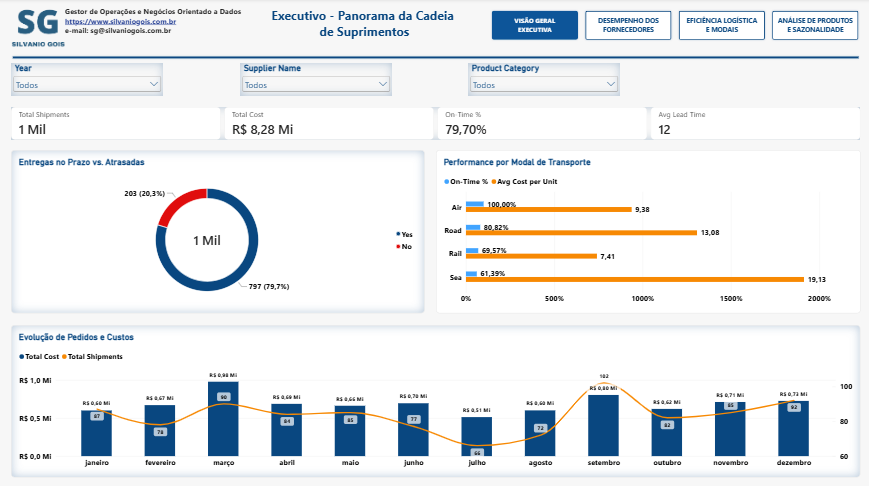

The page's visual inventory and layout, read from the dashboard file:
{"tool":"powerbi","page":{"name":"VISÃO GERAL EXECUTIVA","canvas":[1920,1080],"ordinal":0},"visuals":[{"type":"image","box":[24,0,120,120],"z":0},{"type":"textbox","box":[144,0,408,120],"z":1000},{"type":"textbox","box":[552,0,504,120],"z":2000},{"type":"shape","box":[24,120,1872,24],"z":3000},{"type":"pageNavigator","box":[1080,24,816,72],"z":4000},{"type":"slicer","fields":{"Values":["Calendar.Year"]},"box":[24,144,336,72],"z":5000},{"type":"slicer","fields":{"Values":["SupplyChain.Product Category"]},"box":[1032,144,336,72],"z":6000},{"type":"slicer","fields":{"Values":["SupplyChain.Supplier Name"]},"box":[528,144,336,72],"z":7000},{"type":"cardVisual","fields":{"Data":["Medidas.Total Shipments","Medidas.Total Cost","Medidas.On-Time %","Medidas.Avg Lead Time"]},"box":[24,240,1872,72],"z":8000},{"type":"donutChart","title":"Entregas no Prazo vs. Atrasadas","fields":{"Category":["SupplyChain.On-Time Delivery"],"Y":["Medidas.Total Shipments"]},"box":[24,336,912,360],"z":9000},{"type":"lineClusteredColumnComboChart","title":"Evolução de Pedidos e Custos","fields":{"Category":["Calendar.Date.Variation.Hierarquia de datas.Mês"],"Y":["Medidas.Total Cost"],"Y2":["Medidas.Total Shipments"]},"box":[24,720,1872,336],"z":10000},{"type":"clusteredBarChart","title":"Performance por Modal de Transporte","fields":{"Category":["SupplyChain.Shipping Mode"],"Y":["Medidas.On-Time %","Medidas.Avg Cost per Unit"]},"box":[960,336,936,360],"z":11000}]}

Visuals, with their boxes in screenshot pixels (x1, y1, x2, y2), scaled from the page's 1920x1080 canvas onto the 869x486 screenshot:
image: {"left": 11, "top": 0, "right": 65, "bottom": 54}
textbox: {"left": 65, "top": 0, "right": 250, "bottom": 54}
textbox: {"left": 250, "top": 0, "right": 478, "bottom": 54}
shape: {"left": 11, "top": 54, "right": 858, "bottom": 65}
pageNavigator: {"left": 489, "top": 11, "right": 858, "bottom": 43}
slicer - Calendar.Year: {"left": 11, "top": 65, "right": 163, "bottom": 97}
slicer - SupplyChain.Product Category: {"left": 467, "top": 65, "right": 619, "bottom": 97}
slicer - SupplyChain.Supplier Name: {"left": 239, "top": 65, "right": 391, "bottom": 97}
cardVisual - Medidas.Total Shipments x Medidas.Total Cost: {"left": 11, "top": 108, "right": 858, "bottom": 140}
"Entregas no Prazo vs. Atrasadas" donutChart: {"left": 11, "top": 151, "right": 424, "bottom": 313}
"Evolução de Pedidos e Custos" lineClusteredColumnComboChart: {"left": 11, "top": 324, "right": 858, "bottom": 475}
"Performance por Modal de Transporte" clusteredBarChart: {"left": 434, "top": 151, "right": 858, "bottom": 313}
